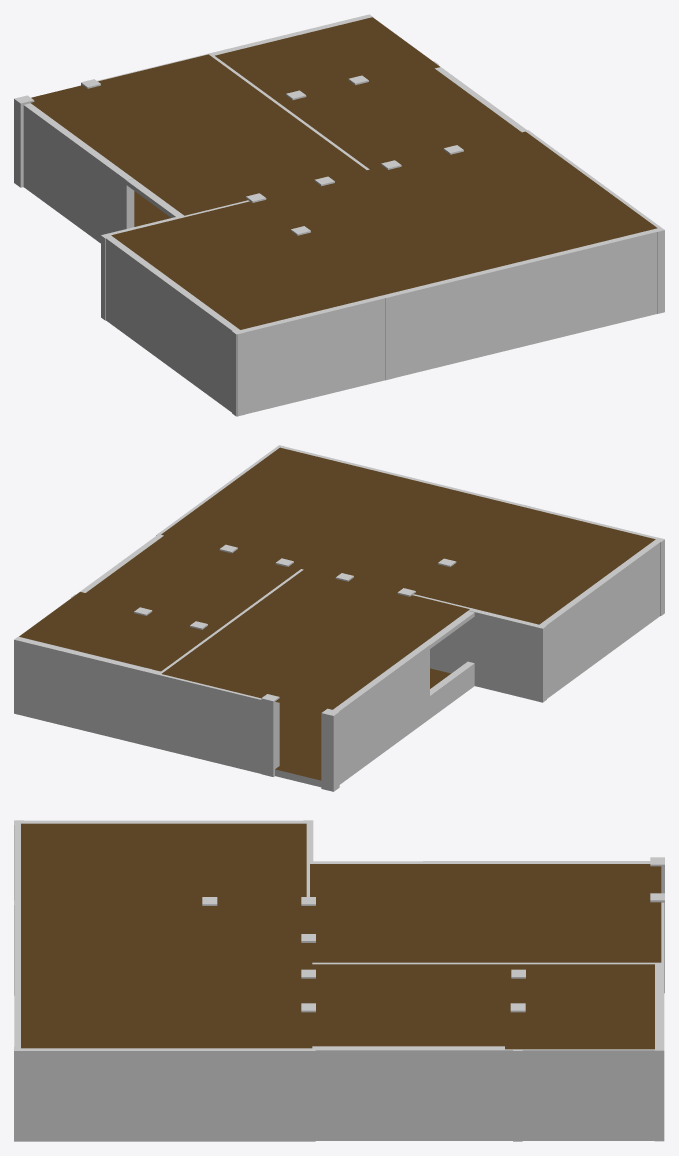
Rendered from USSR apartment 1.fbx.
The picture shows the model from 3 angles, top to bottom: view 1: azimuth 30°, elevation 25°; view 2: azimuth 150°, elevation 25°; view 3: azimuth 270°, elevation 25°; orthographic projection. The views are drawn at different scales.
Visible parts, largest first — view 1: Cube.020; view 2: Cube.020; view 3: Cube.020.
Boxes of the visible parts, x1,y1,x2,y2 form: Cube.020: [14, 14, 664, 416]; Cube.020: [14, 445, 664, 791]; Cube.020: [14, 820, 664, 1141].
Size of the model in its own units: 1092 by 205 by 1303.
